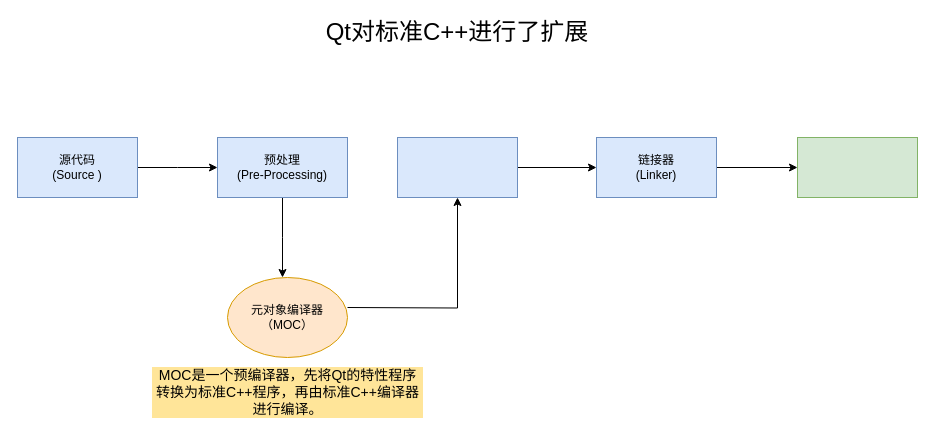
This 935x434 diagram has some shape labels left out. The shapes that lost their labels are listed below. From the top down, each one's box as (x1, y1, x2, y2) in pixels, then its label:
(396, 136, 518, 198): 编译器 (Compiler)
(796, 136, 918, 198): 应用程序 (Application)
